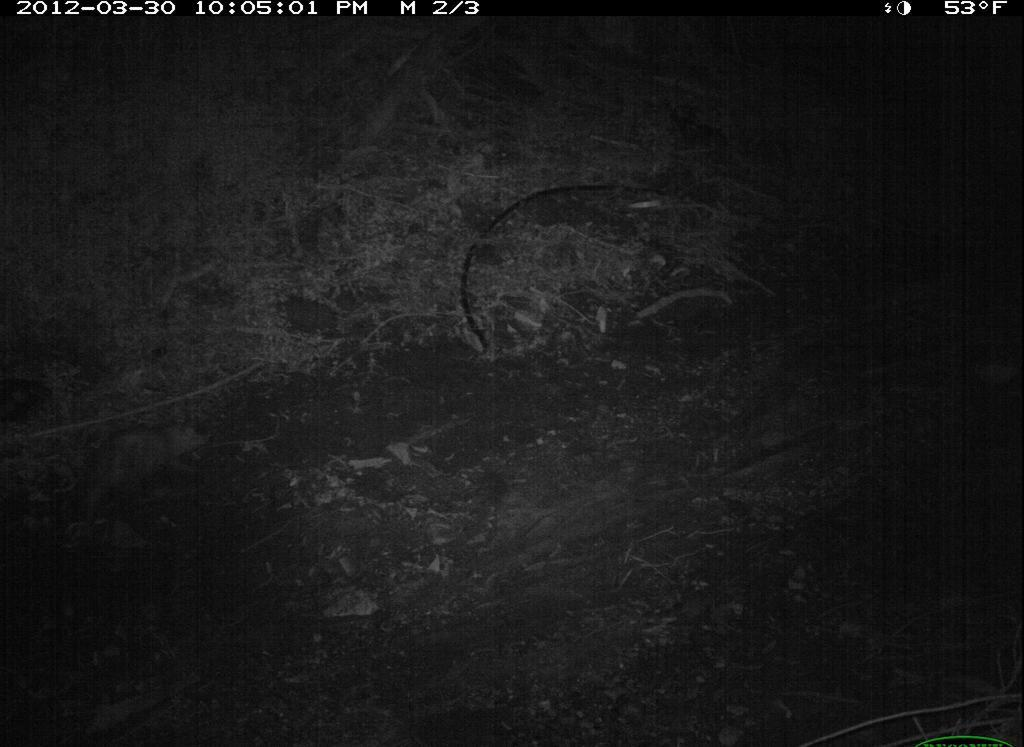opossum: (54, 413, 226, 529)
